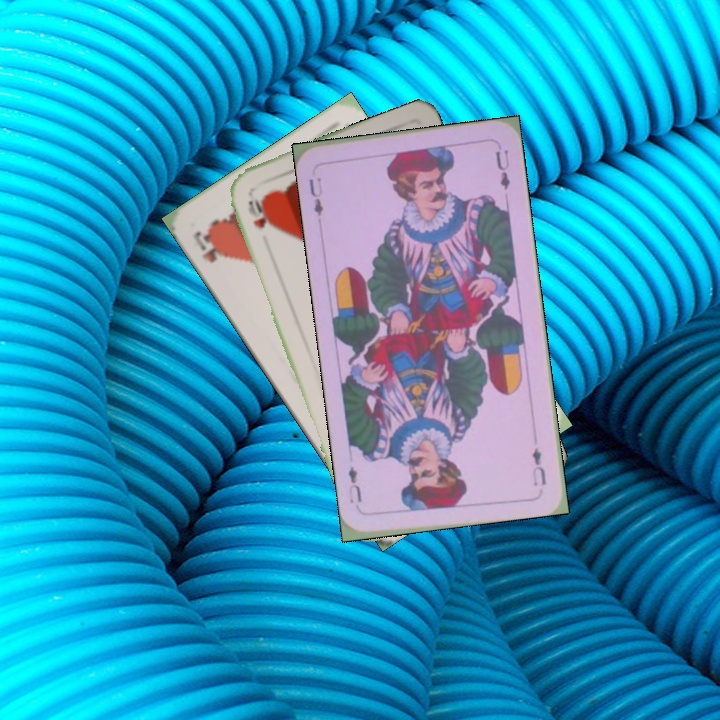EU: (305, 173, 326, 219), (528, 444, 549, 489)
HO: (189, 226, 228, 265), (244, 191, 274, 231)
